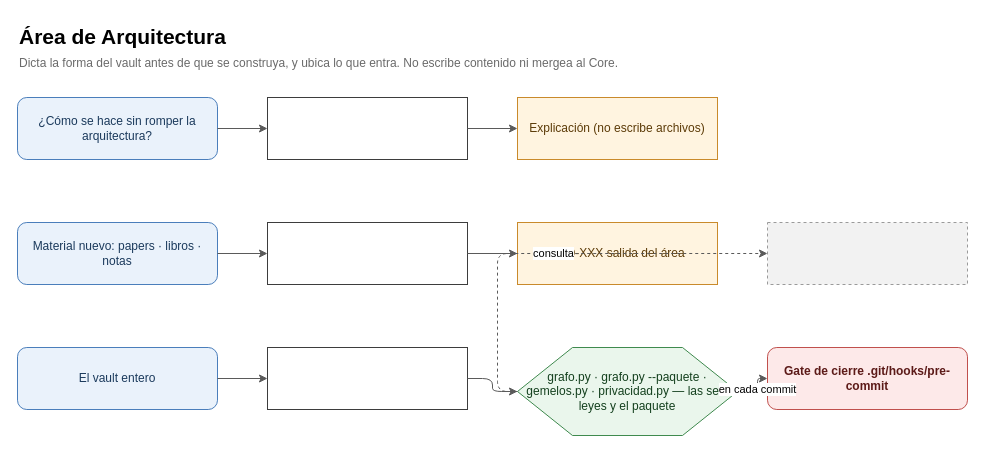
The diagram is 985 pixels wide and 453 high, and some of its shapes have lost their labels. The centre of each missing label's shape, as x and y in pixels:
"excepciones.txt — lo no declarado, falla" goes at (x=867, y=253).
"Modo Emplazamiento — decide dónde vive" goes at (x=367, y=253).
"Modo Pasada — mide, repara, verifica" goes at (x=367, y=378).
"Modo Plano — explica en cascada" goes at (x=367, y=128).
